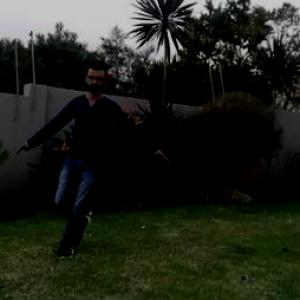land: (27, 65, 174, 244)
